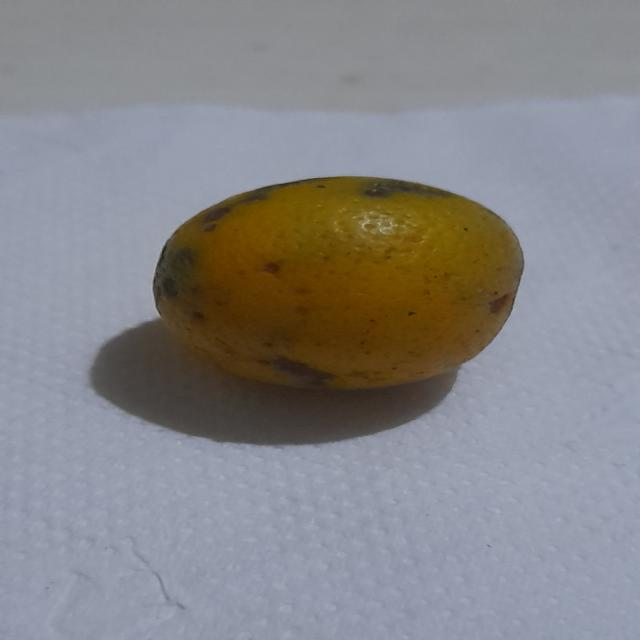black spot: (152, 176, 532, 400)
